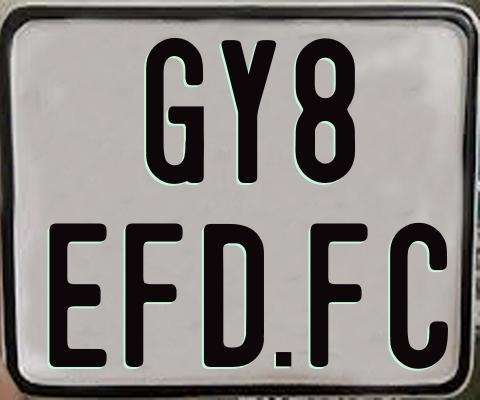8: (294, 36, 357, 183)
C: (387, 223, 448, 371)
D: (201, 221, 265, 368)
E: (48, 222, 107, 369)
F: (307, 223, 369, 368), (125, 221, 183, 368)
G: (143, 35, 207, 187)
Y: (219, 39, 279, 184)
